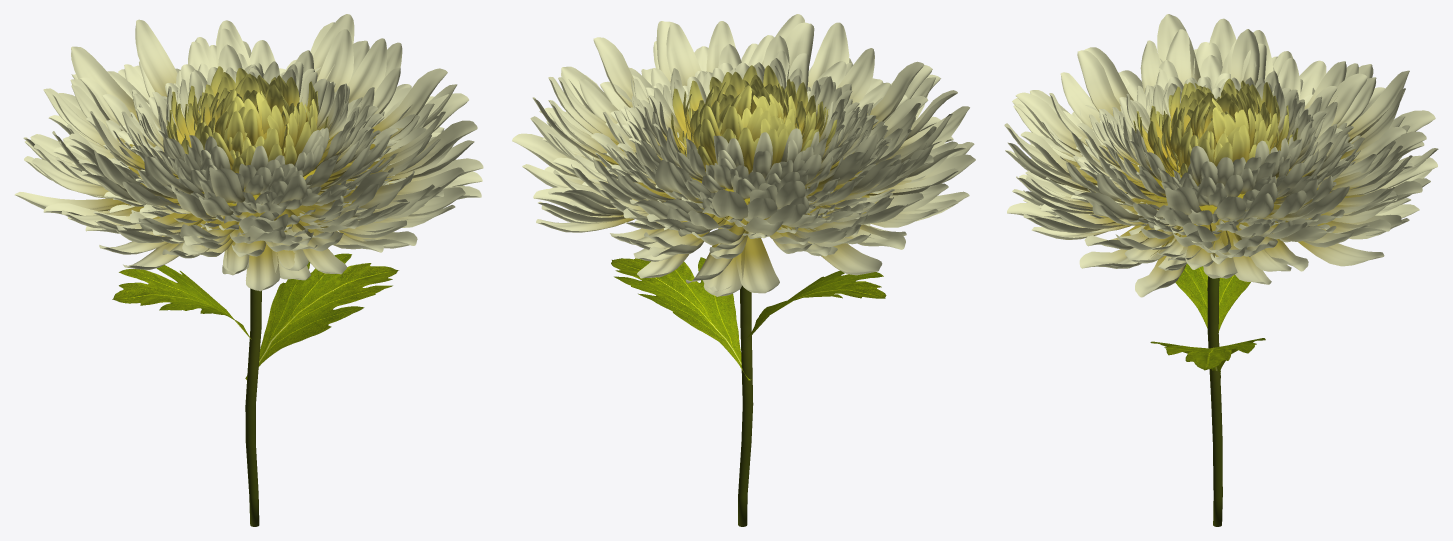
The model's file is Chrysanthemum-V1.glb.
The picture shows the model from 3 angles, left to right: view 1: azimuth 30°, elevation 25°; view 2: azimuth 150°, elevation 25°; view 3: azimuth 270°, elevation 25°; orthographic projection. The views are drawn at different scales.
Visible parts, largest first — view 1: Leaf, Branch, Plane.172, Plane.058, Plane.045, Plane.040, Plane.290, Plane.256, Plane.221, Plane.286, Plane.275, Plane.117 (+24 smaller); view 2: Leaf, Branch, Plane.184, Plane.058, Plane.247, Plane.069, Plane.286, Plane.117, Plane.105, Plane.200, Plane.298, Plane.172 (+28 smaller); view 3: Leaf, Branch, Plane.117, Plane.290, Plane.147, Plane.253, Plane.346, Plane.254, Plane.266, Plane.165, Plane.124, Plane.225 (+32 smaller).
Part boxes in pixels (x1,y1,x2,y2): Leaf: (112, 253, 398, 379); Branch: (177, 149, 315, 526); Plane.172: (135, 19, 177, 96); Plane.058: (370, 68, 447, 149); Plane.045: (347, 38, 386, 102); Plane.040: (317, 29, 353, 92); Plane.290: (71, 46, 138, 121); Plane.256: (245, 243, 280, 291); Plane.221: (395, 120, 477, 175); Plane.286: (14, 192, 131, 211); Plane.275: (31, 158, 108, 196); Plane.117: (209, 167, 245, 202); Leaf: (611, 257, 886, 380); Branch: (684, 148, 753, 526); Plane.184: (735, 236, 779, 293); Plane.058: (593, 37, 648, 107); Plane.247: (807, 22, 849, 87); Plane.069: (666, 23, 700, 85); Plane.286: (821, 243, 882, 275); Plane.117: (867, 61, 924, 129); Plane.105: (836, 48, 874, 103); Plane.200: (512, 133, 578, 177); Plane.298: (703, 246, 745, 296); Plane.172: (654, 160, 702, 203); Leaf: (1150, 263, 1265, 377); Branch: (1153, 158, 1289, 526); Plane.117: (1077, 50, 1121, 116); Plane.290: (1347, 70, 1409, 142); Plane.147: (1231, 29, 1259, 85); Plane.253: (1015, 92, 1080, 152); Plane.346: (1298, 241, 1384, 266); Plane.254: (1060, 72, 1100, 129); Plane.266: (1157, 14, 1200, 81); Plane.165: (1327, 73, 1367, 126); Plane.124: (1166, 29, 1191, 85); Plane.225: (1135, 256, 1185, 297).
Size of the model in its own units: 0.1215 by 0.1306 by 0.1204.
Materials: 2 (2 with a texture image).
